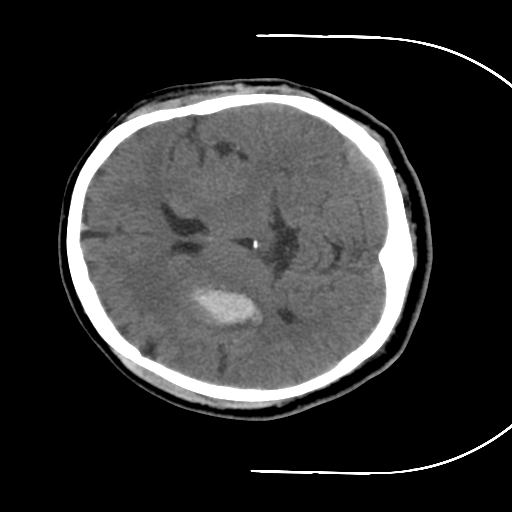a: (166, 263, 279, 342)
